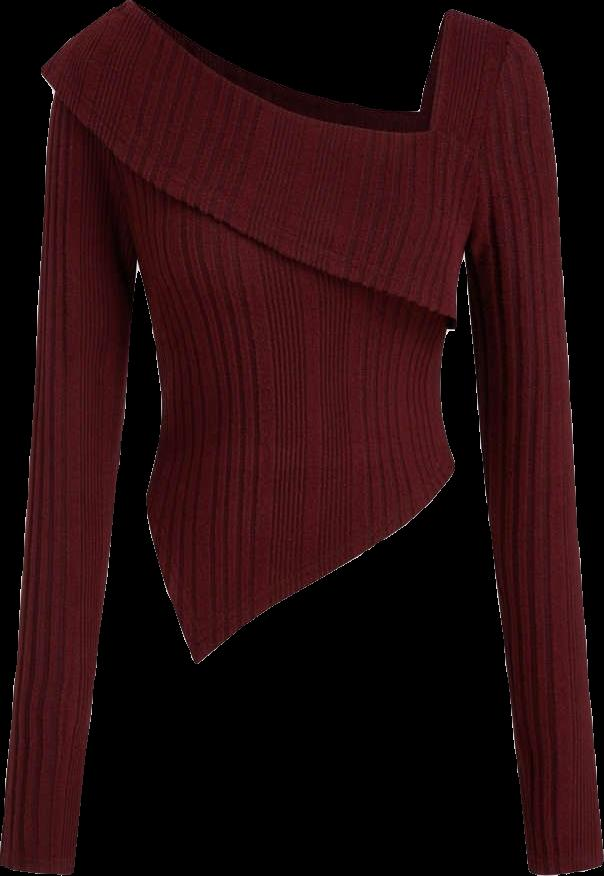Bodice: (41, 0, 513, 662)
Neckline: (126, 0, 457, 142)
Sleeve: (461, 29, 602, 874), (0, 81, 144, 874)
Sleeveline: (53, 97, 145, 264), (460, 31, 519, 249)
Waistline: (42, 64, 454, 328), (142, 456, 462, 664)
